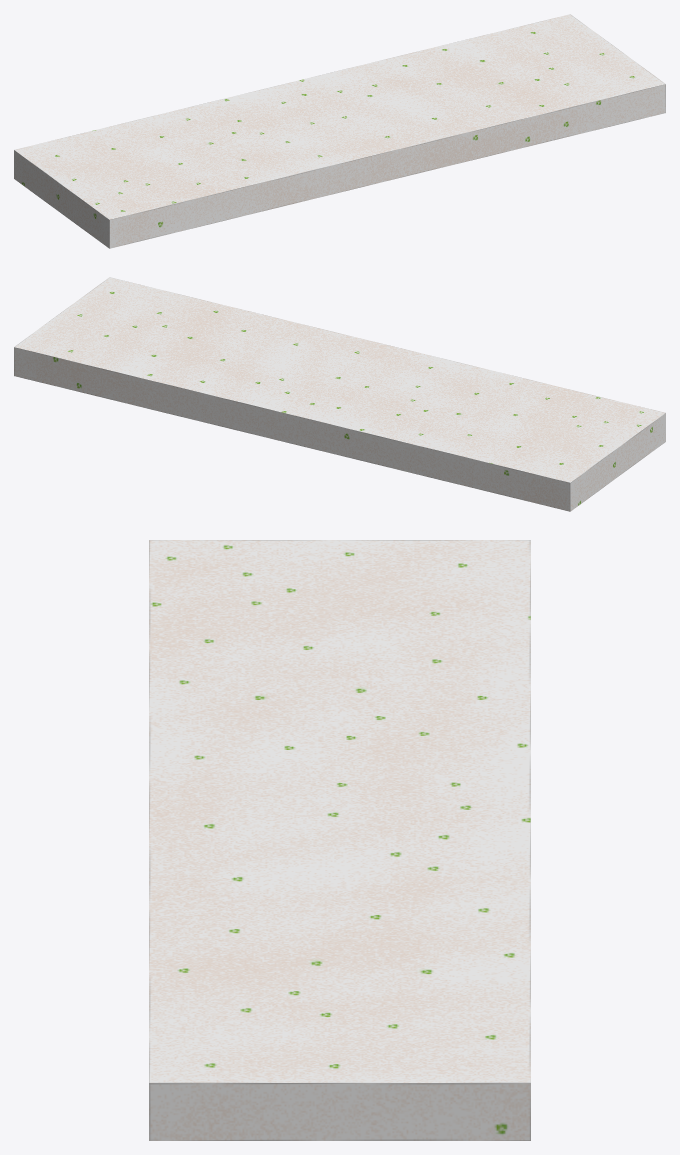
Rendered from Changua.fbx.
The picture shows the model from 3 angles, top to bottom: view 1: azimuth 30°, elevation 25°; view 2: azimuth 150°, elevation 25°; view 3: azimuth 270°, elevation 25°; orthographic projection. The views are drawn at different scales.
Visible parts, largest first — view 1: pCube24; view 2: pCube24; view 3: pCube24.
Boxes of the visible parts, left/top/right/bottom form: pCube24: left=14, top=14, right=665, bottom=248; pCube24: left=14, top=277, right=665, bottom=511; pCube24: left=149, top=540, right=530, bottom=1140.
Bounding box in the file's own units: 150 × 7.45 × 44.66.
Materials: 1 (1 with a texture image).
